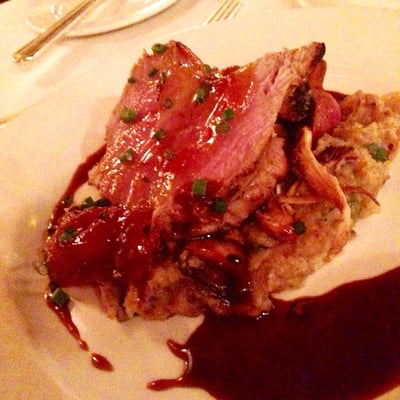curry: (1, 0, 398, 347)
sandwich: (34, 33, 394, 364)
